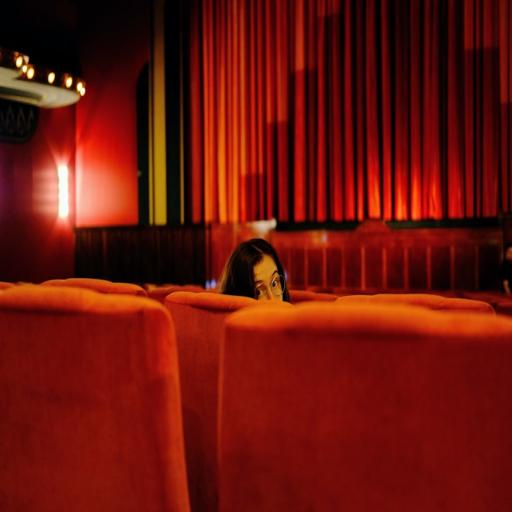face: (254, 255, 283, 300)
